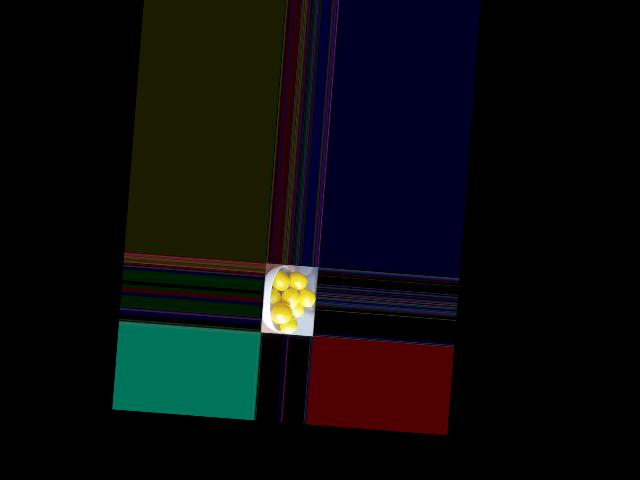lemon: (266, 289, 281, 304)
